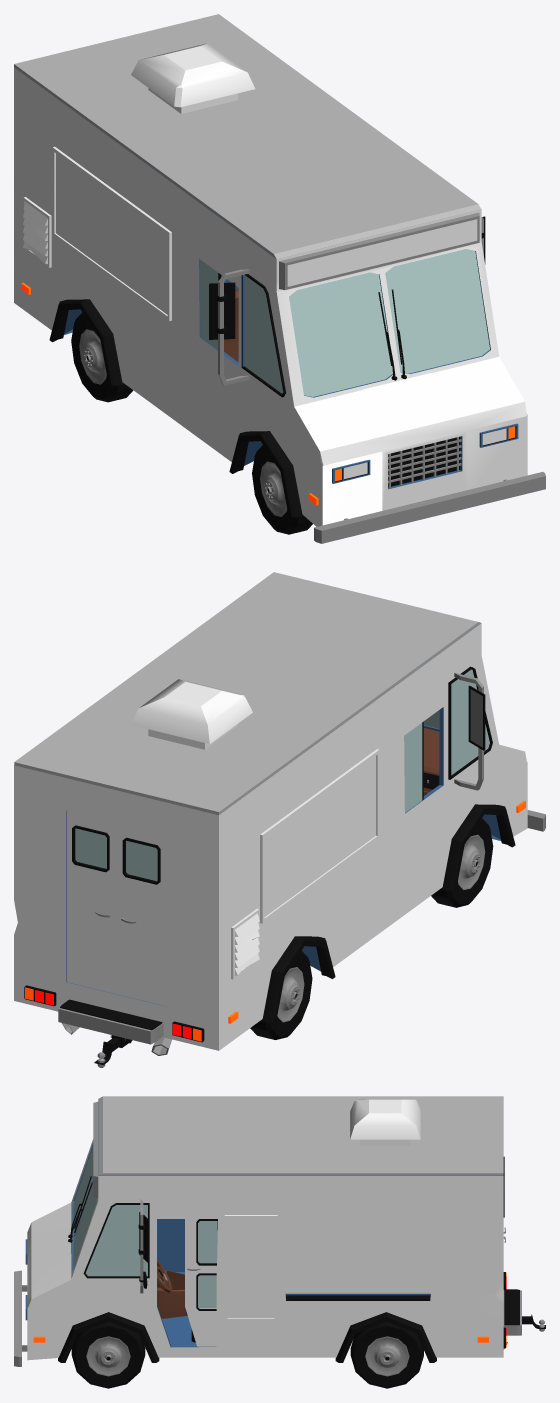
The model's file is Food Truck 4.fbx.
3 views of the same model, one above another, from view 1: azimuth 30°, elevation 25°; view 2: azimuth 150°, elevation 25°; view 3: azimuth 270°, elevation 25° (orthographic). The views are drawn at different scales.
Visible parts, largest first — view 1: FoodTruck4; view 2: FoodTruck4; view 3: FoodTruck4.
Boxes of the visible parts, x1=… form: FoodTruck4: x1=14, y1=14, x2=545, y2=543; FoodTruck4: x1=14, y1=572, x2=545, y2=1067; FoodTruck4: x1=14, y1=1096, x2=545, y2=1388.
Bounding box in the file's own units: 3.2 × 3.51 × 6.89.
